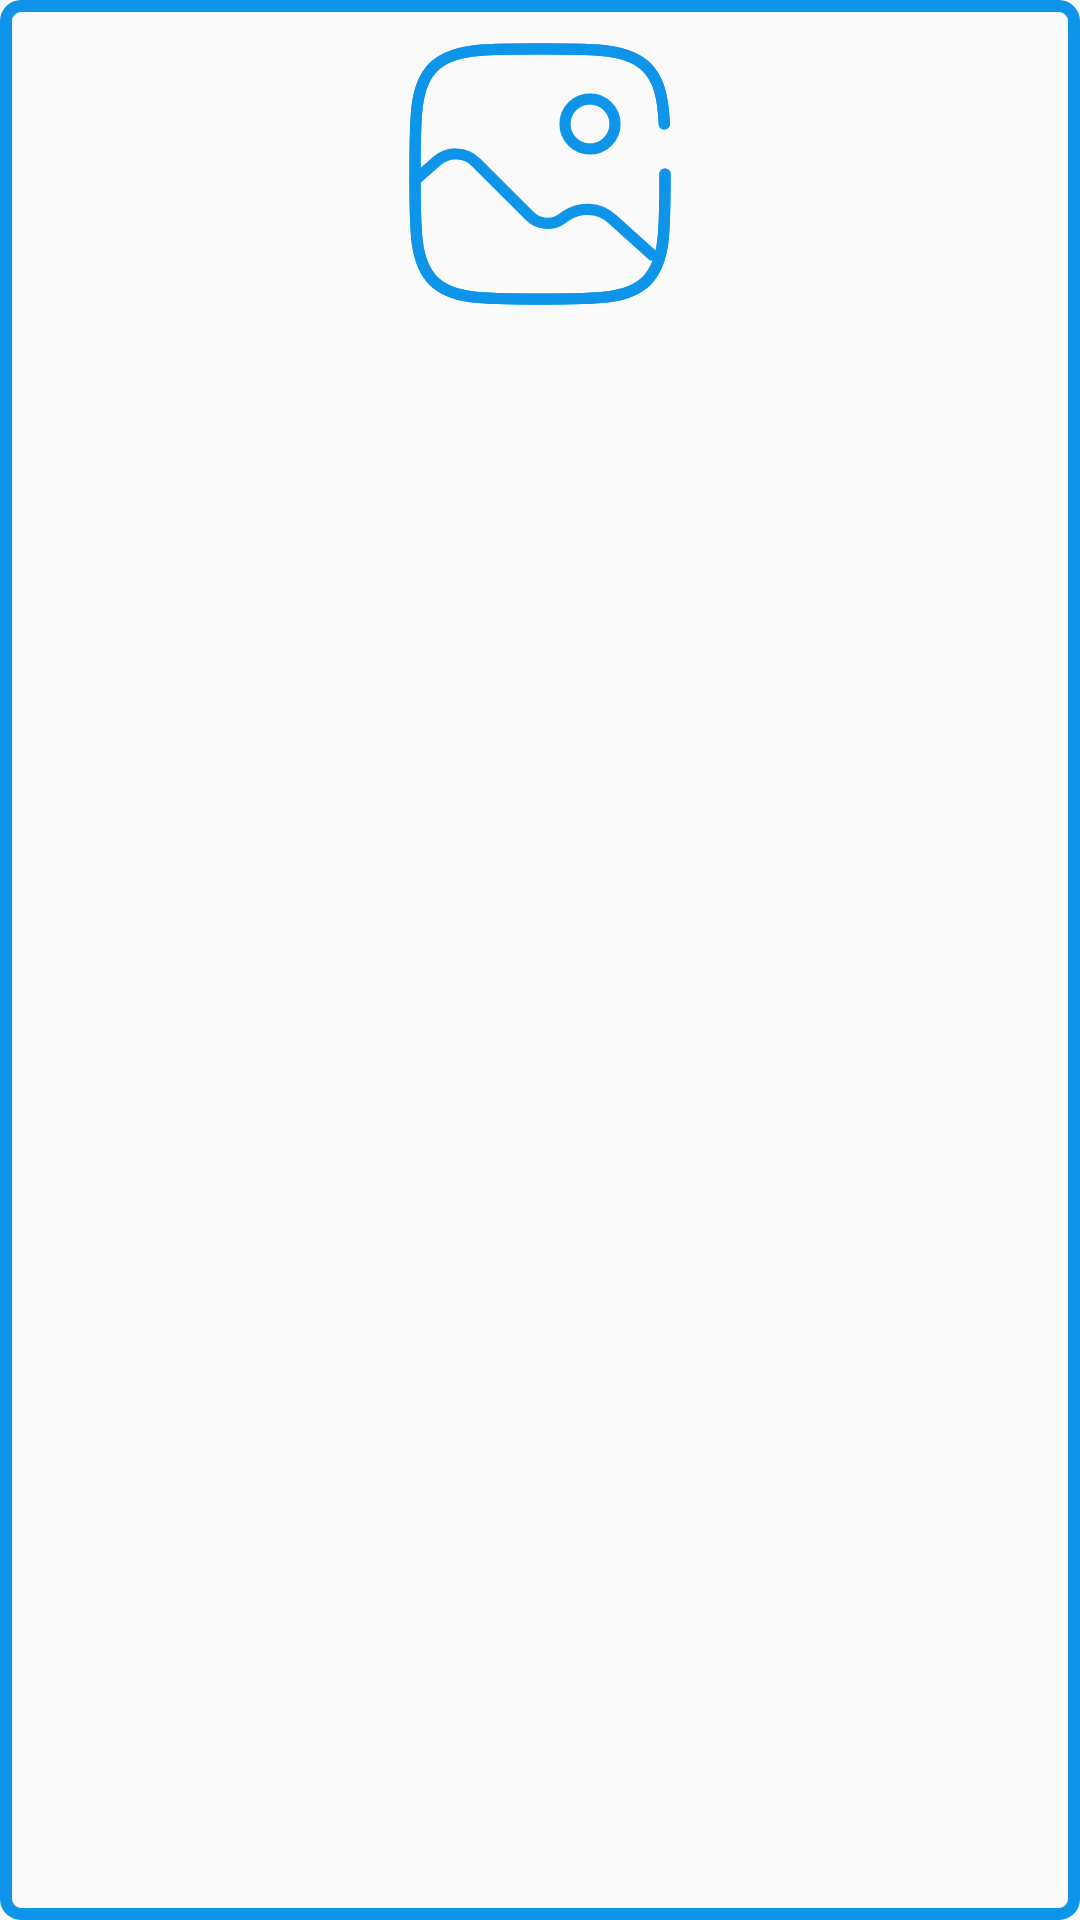

Icon click points for this 1080x1920 phone screenshot, format point (x, y):
Book Image: point (540, 174)
